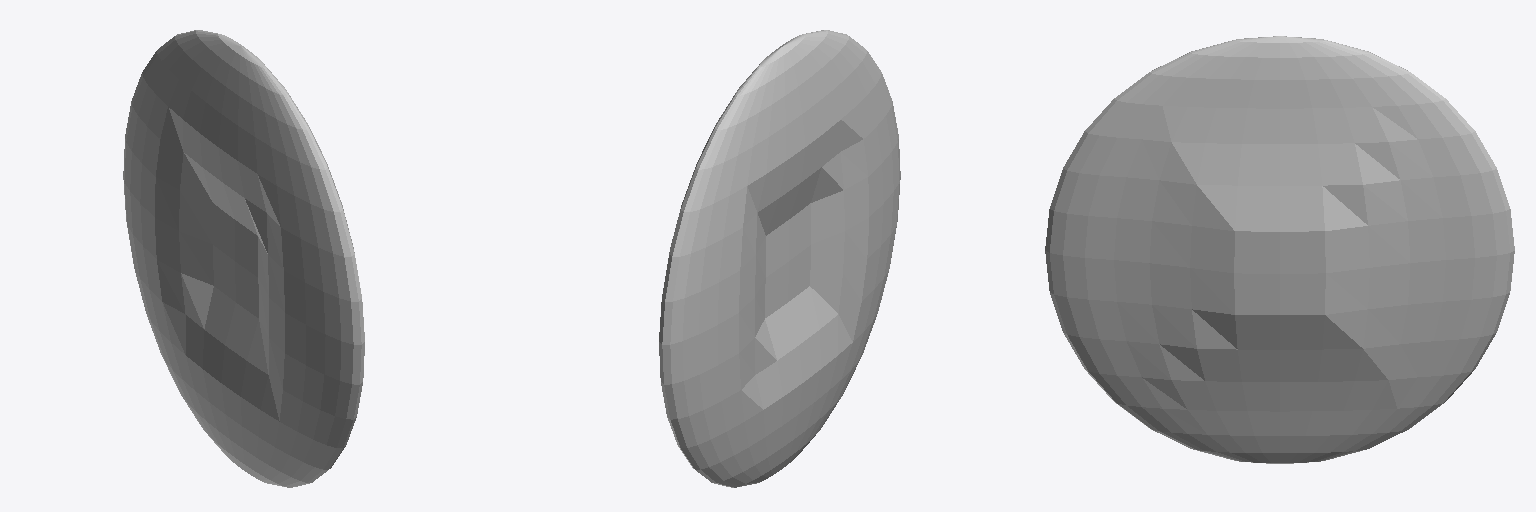
Rendered from shield_000018.obj.
3 views of the same model, side by side, from view 1: azimuth 30°, elevation 25°; view 2: azimuth 150°, elevation 25°; view 3: azimuth 270°, elevation 25° (orthographic).
Bounding box in the file's own units: 0.3704 × 2 × 2.